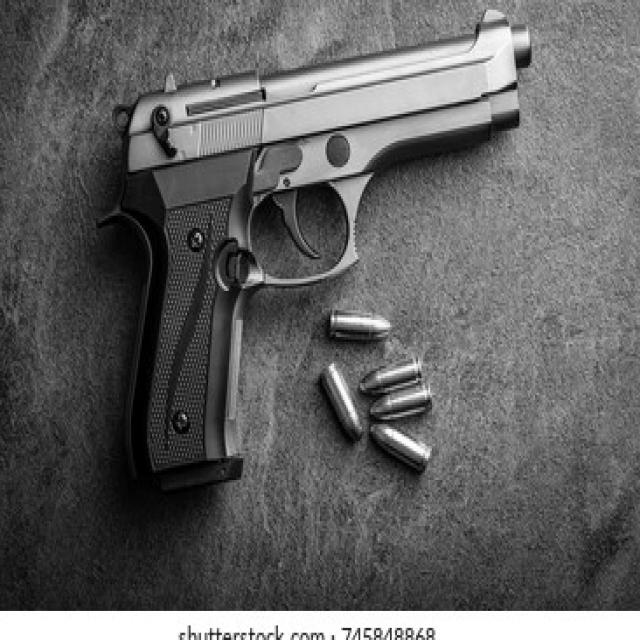Weapon: (103, 10, 530, 487)
